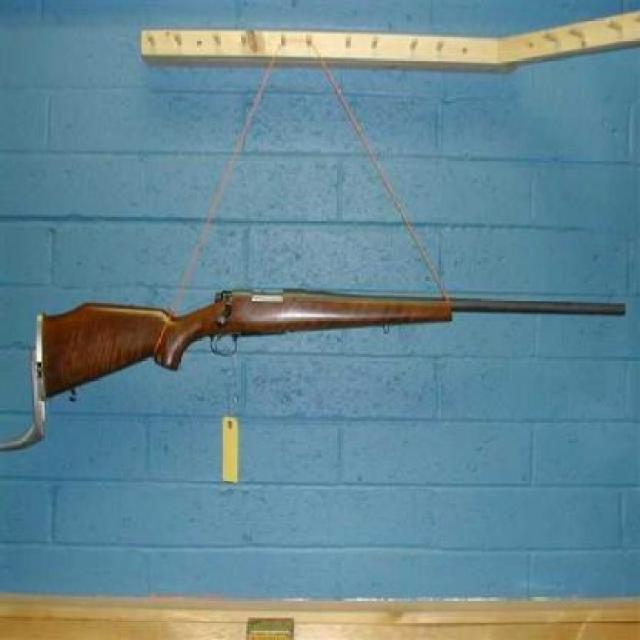weapon: (2, 293, 640, 457)
